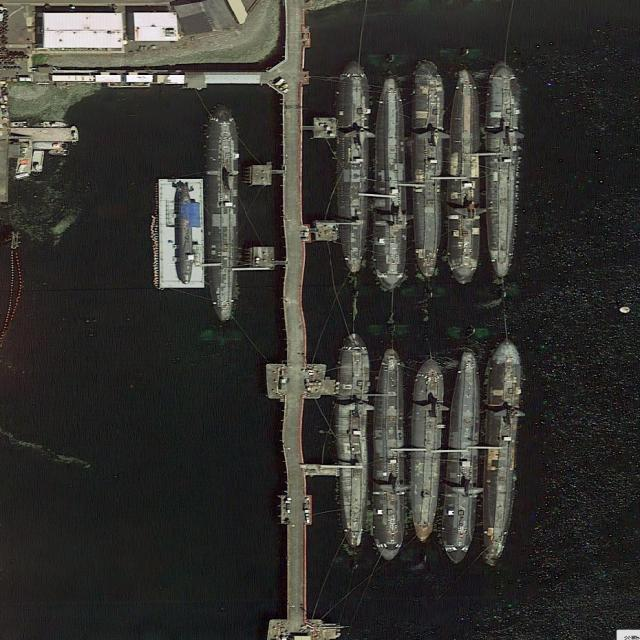Dock: (281, 6, 308, 621)
Submarine: (478, 339, 521, 570), (441, 344, 484, 568), (370, 74, 406, 290), (335, 332, 370, 547), (406, 356, 446, 544), (487, 60, 520, 278), (370, 347, 403, 561), (207, 105, 239, 323), (412, 55, 443, 280), (449, 67, 480, 284), (337, 57, 368, 273)
